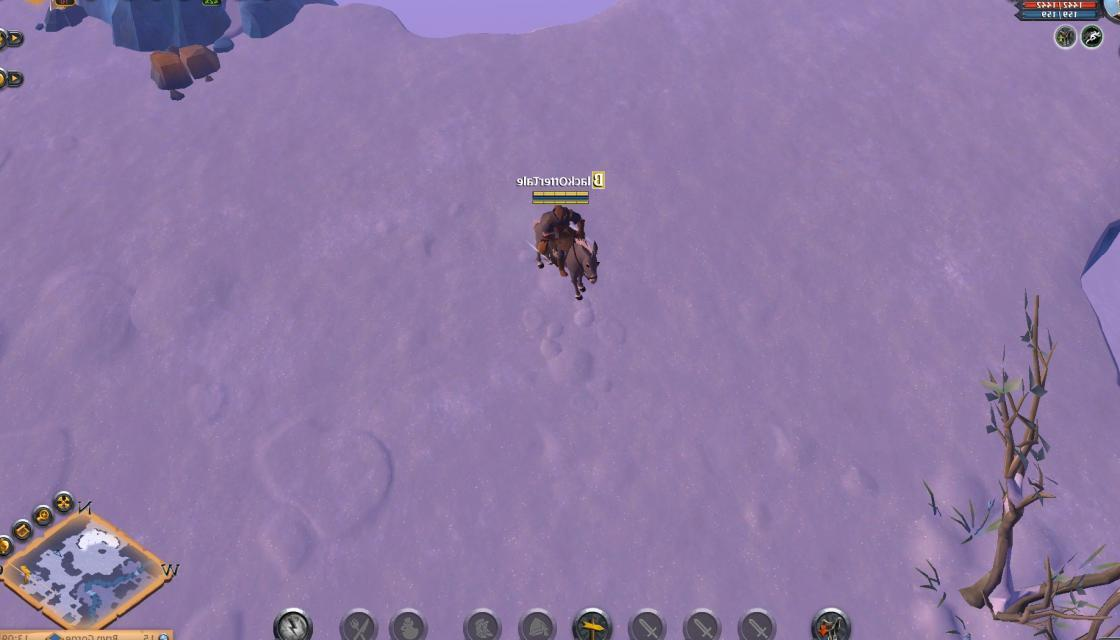limestone: (148, 34, 222, 97)
